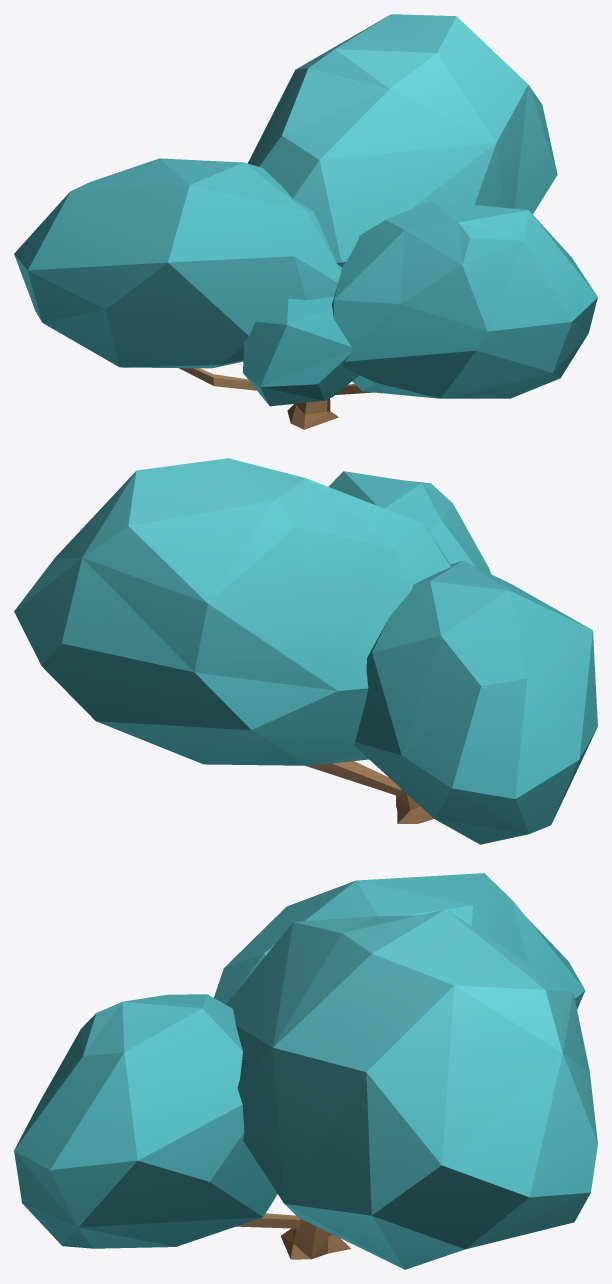
Rendered from bush_cluster_blue.fbx.
The picture shows the model from 3 angles, top to bottom: view 1: azimuth 30°, elevation 25°; view 2: azimuth 150°, elevation 25°; view 3: azimuth 270°, elevation 25°; orthographic projection. The views are drawn at different scales.
Visible parts, largest first — view 1: bush_cluster_blue; view 2: bush_cluster_blue; view 3: bush_cluster_blue.
Part boxes in pixels (x1,y1,x2,y2): bush_cluster_blue: (14, 14, 597, 429); bush_cluster_blue: (14, 458, 597, 844); bush_cluster_blue: (14, 873, 597, 1269).
Bounding box in the file's own units: 4.35 × 2.55 × 3.5.
Materials: 1 (1 with a texture image).
